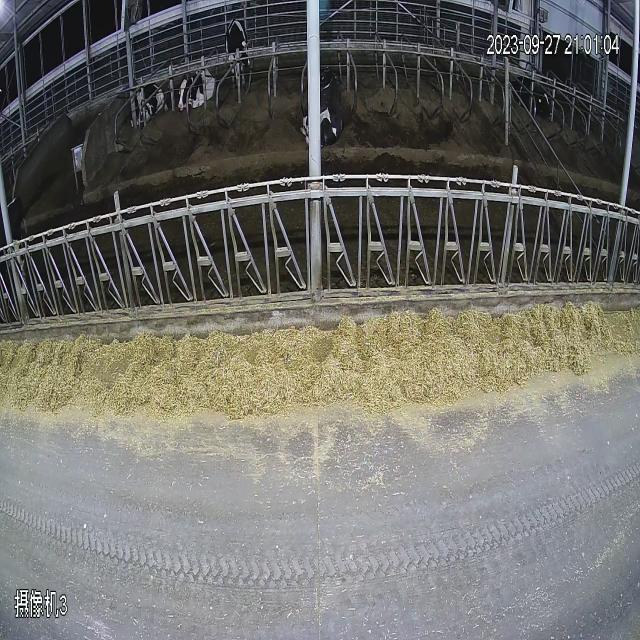lying down: (276, 52, 361, 164), (172, 60, 222, 126), (128, 70, 168, 138)
standing: (220, 17, 256, 91)
